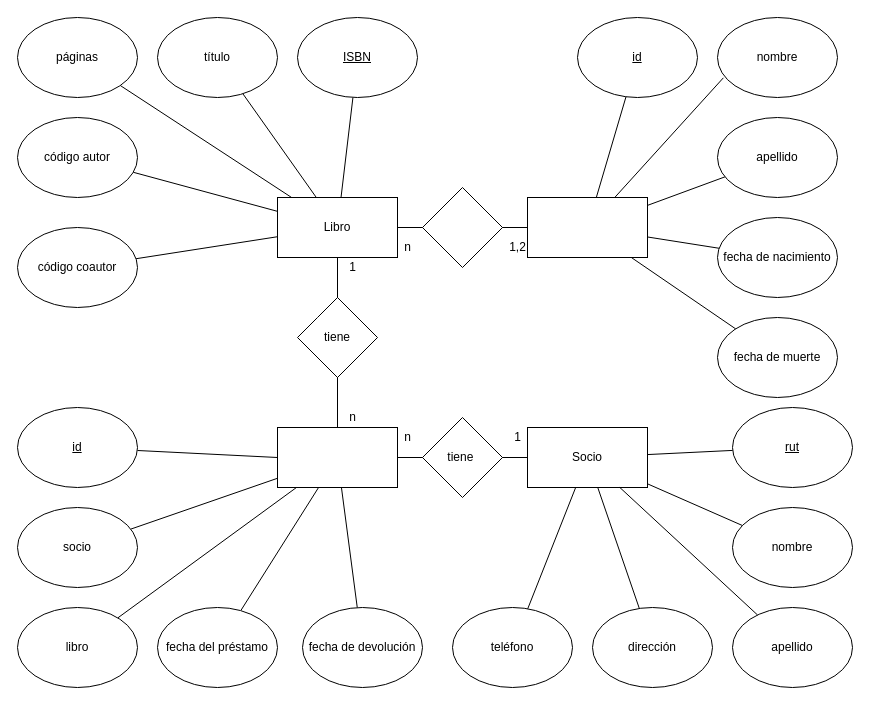
Some shapes in this 870 by 705 pixel diagram are drawn without their labels. The shapes that lost their labels are listed below. From the top down, each one's centre as x and y in pixels, then its label:
At (462,227): "pertenece".
At (587,227): "Autor".
At (337,457): "Historial de préstamos".
